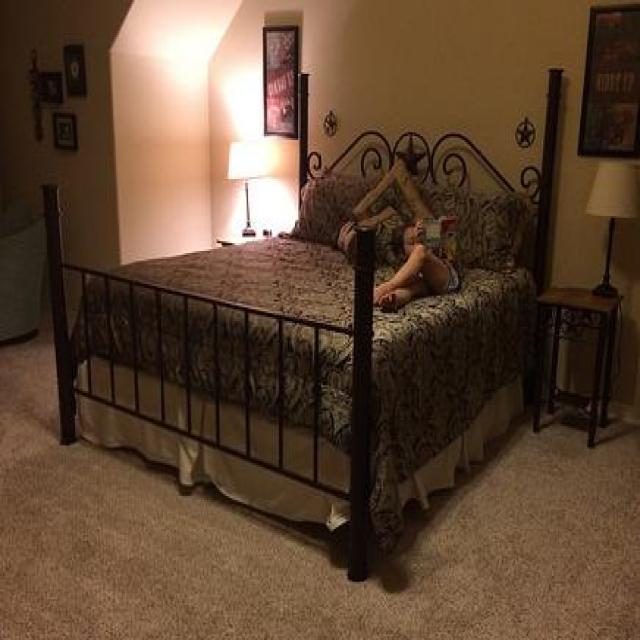bed: (39, 64, 564, 582)
